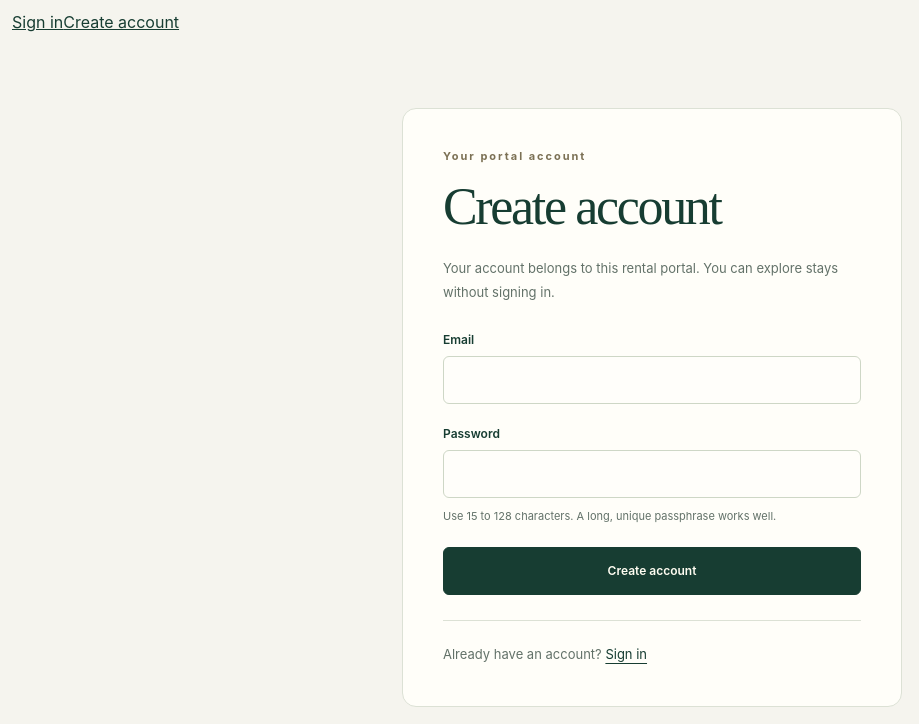
Test case: discards an unsafe return URL after registration and shows the account identity
The image size is (919, 724).
Expected: the button "Create account" is shown, [443,547,861,595]
Type "client@example.test" into the field labelled "Email" at (652, 380), box [443,356,861,404]
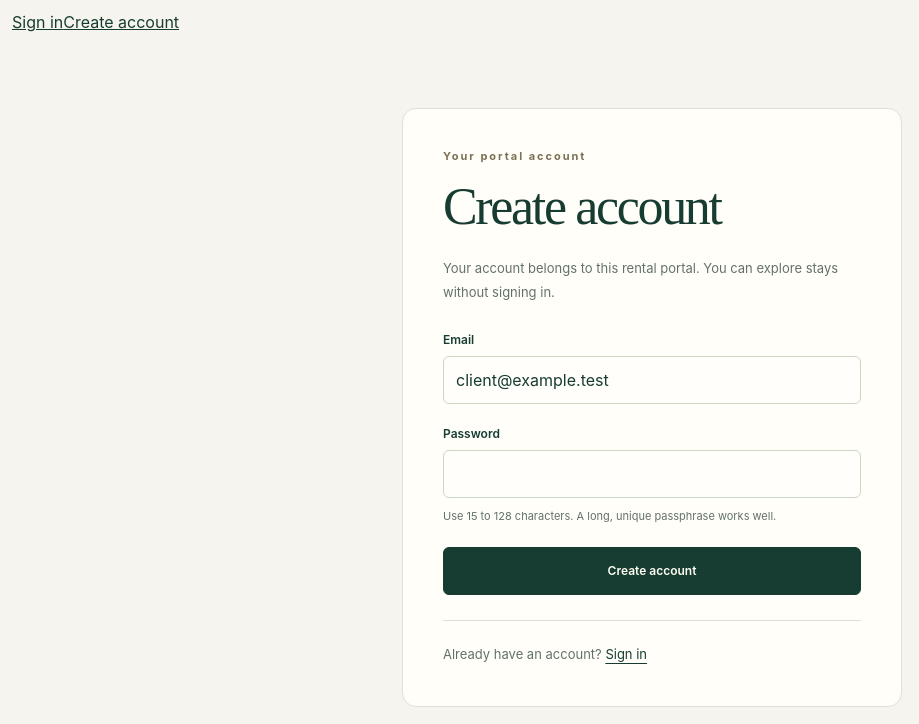
Type "A long account password 2026" into the password field labelled "Password" at (652, 474), box [443,450,861,498]
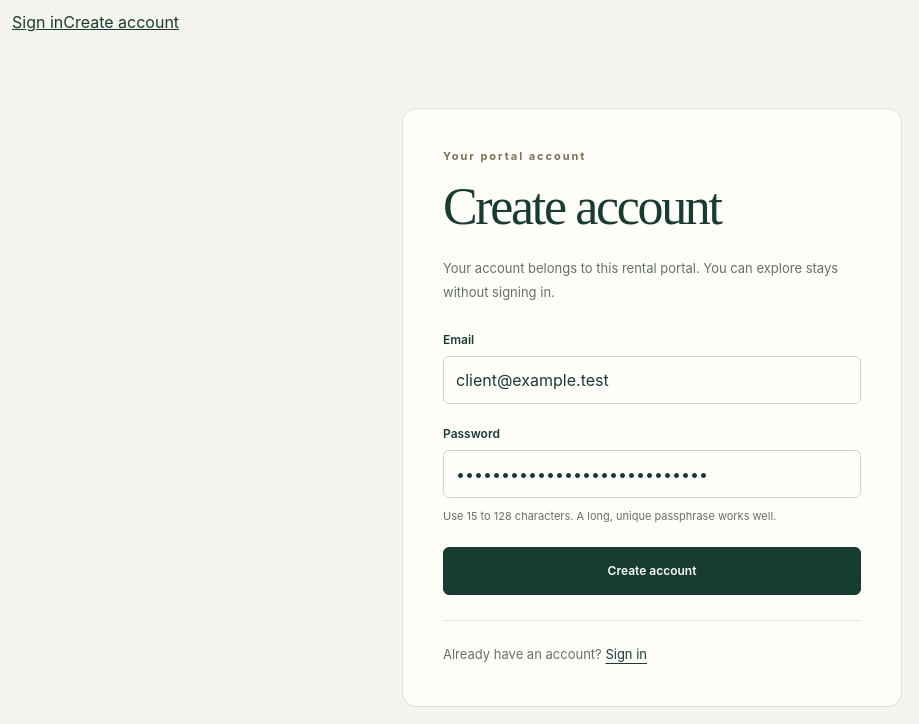
Submit the form named "Create account", box [443,332,861,595]
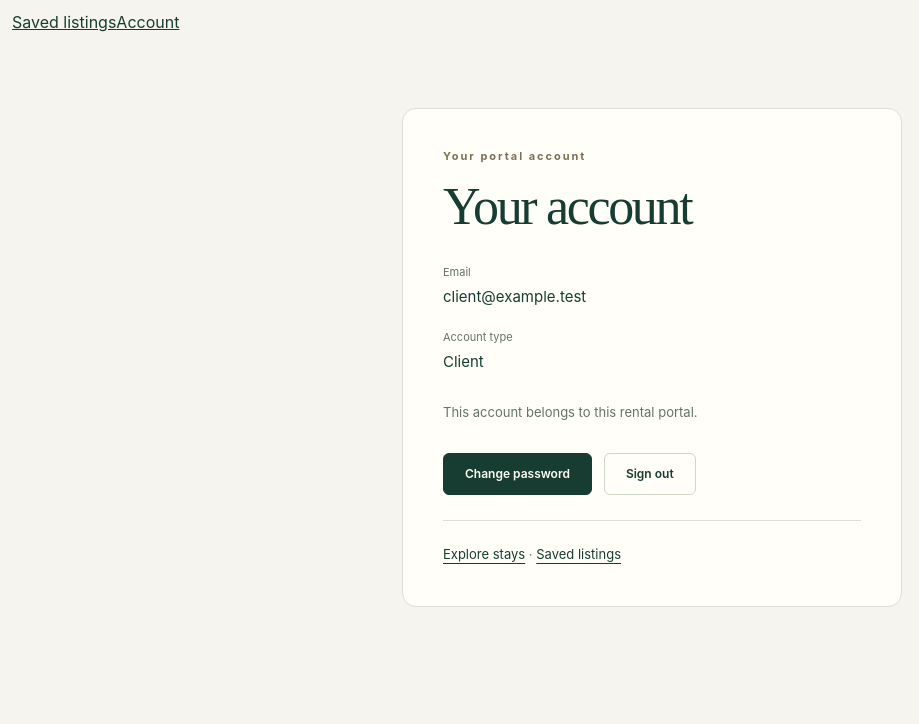
Expected: the heading "Your account" is shown, [443,178,691,235]
Expected: the text "client@example.test" is shown, [443,287,586,306]
